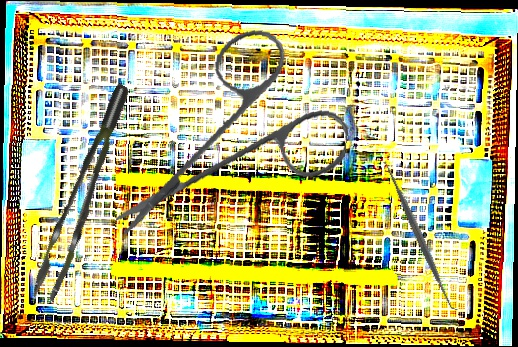Iris Scissors: (113, 12, 361, 266)
Spatula Surgical: (377, 157, 462, 316)
Tissue Forceps: (11, 82, 158, 306)
